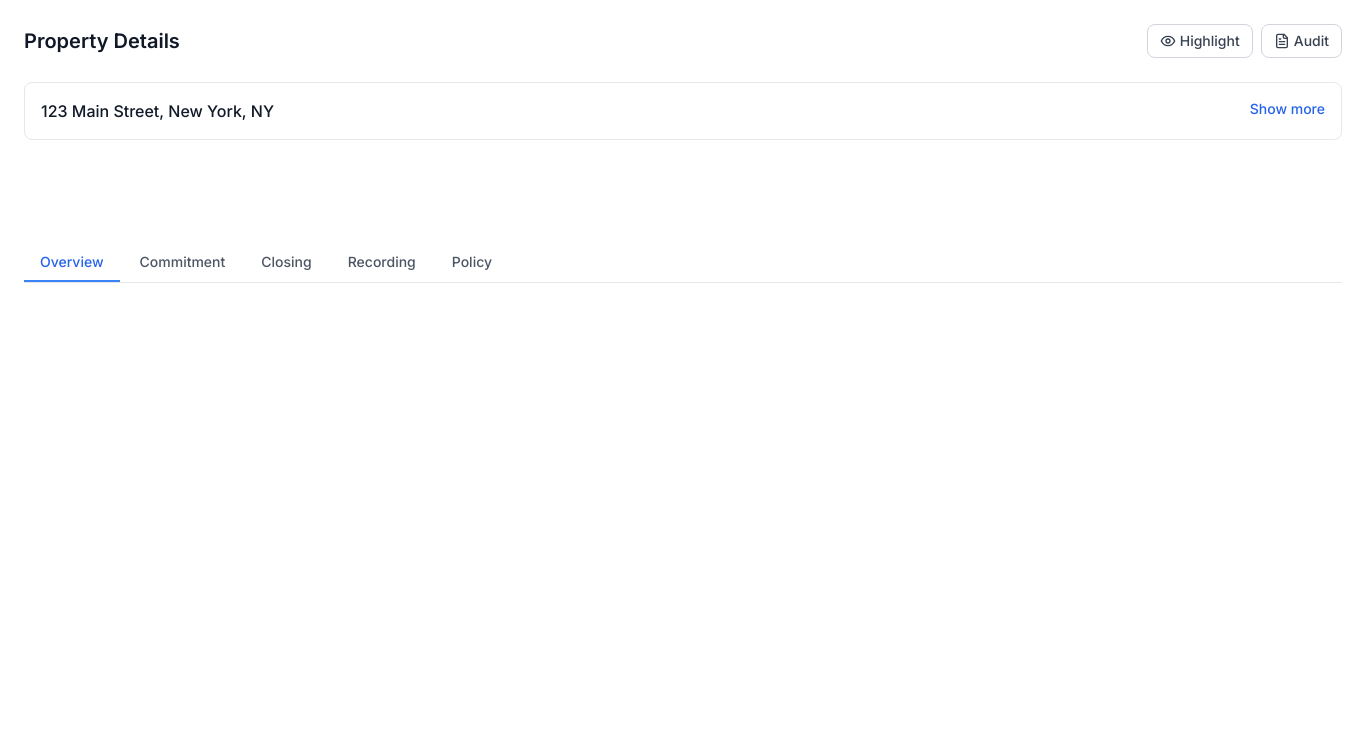
PropertyDetails Component › handles address expansion toggle
Click the button "Show more".
click(1287, 109)  # box [1250,99,1325,119]
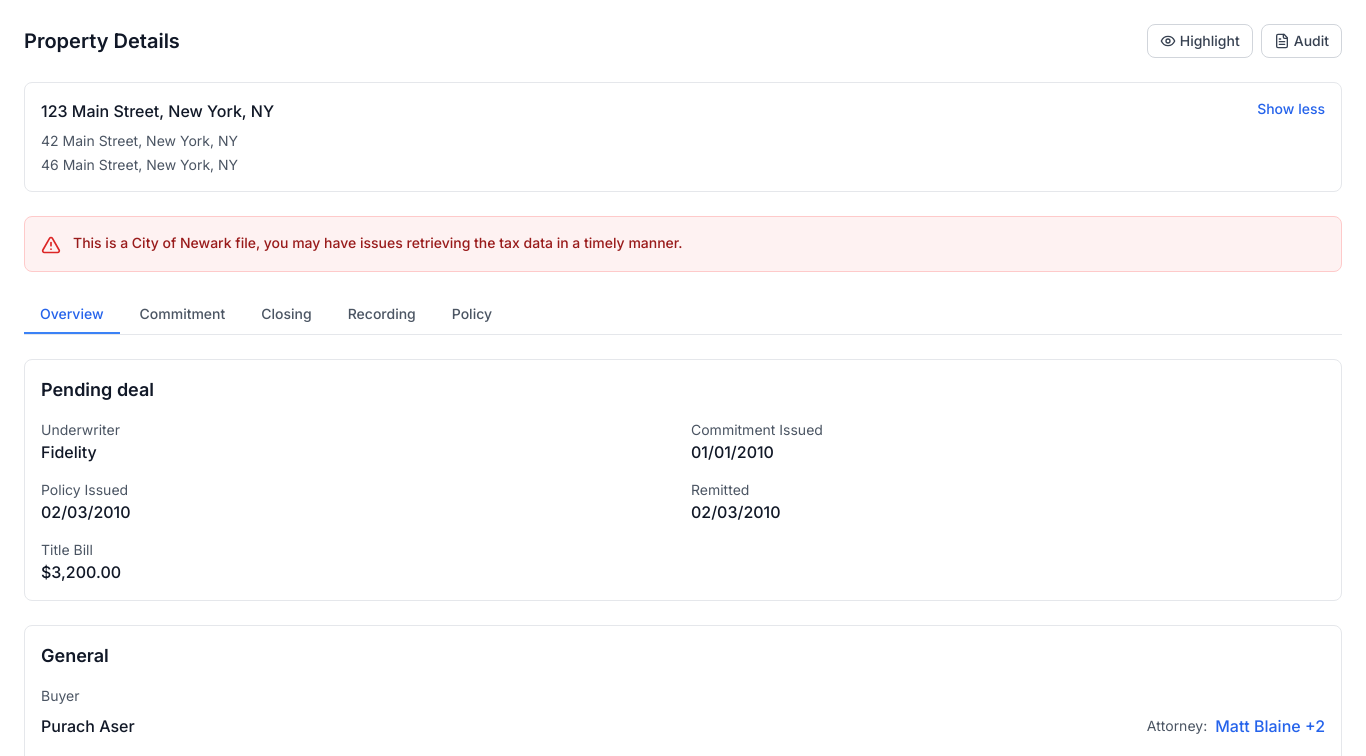
Expected: the button "Show less" is shown, [1257,99,1325,119]
Expected: the text "42 Main Street, New York, NY" is shown, [41,132,238,149]
Expected: the text "46 Main Street, New York, NY" is shown, [41,156,238,173]
